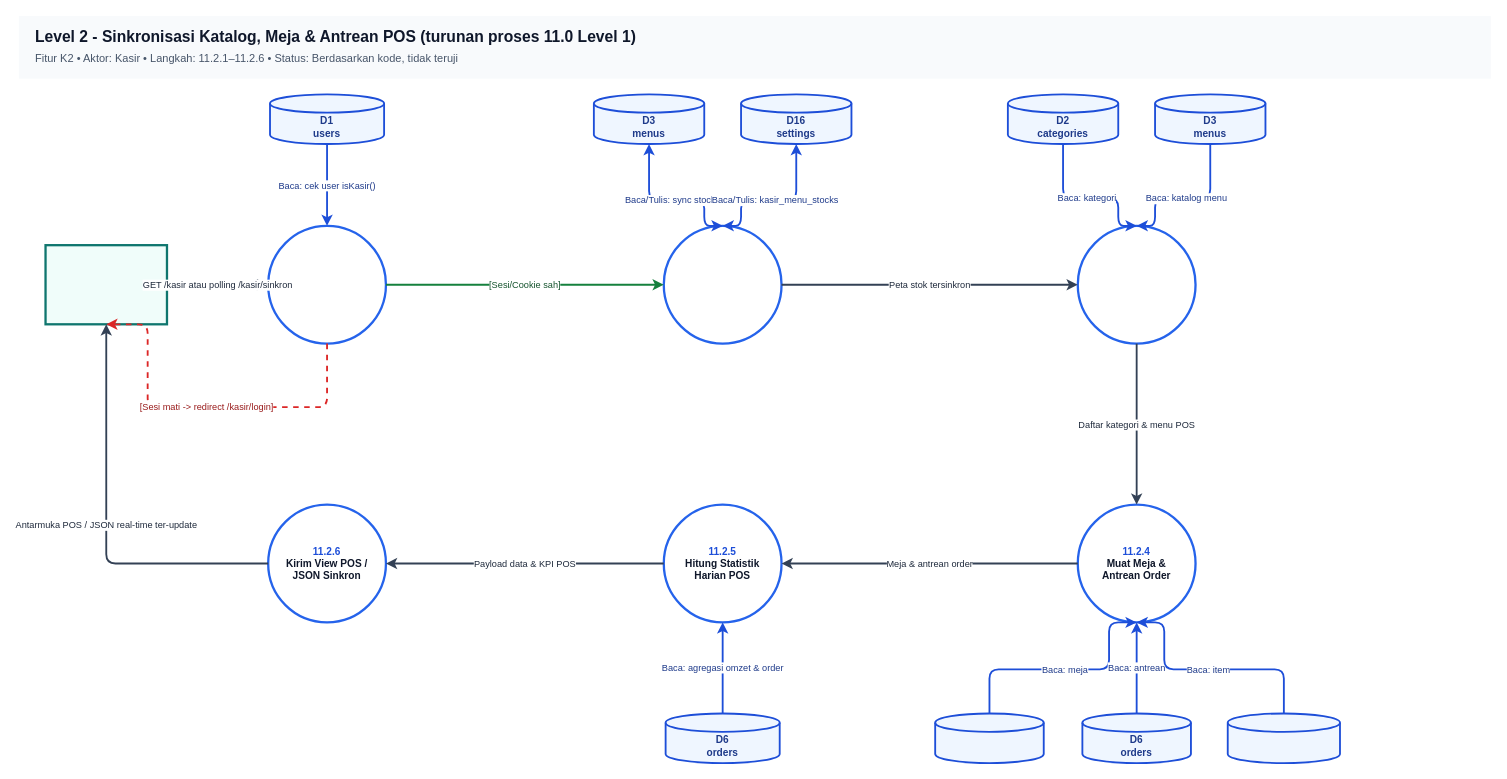
Some shapes in this 1507 by 779 pixel diagram are drawn without their labels. The shapes that lost their labels are listed below. From the top down, each one's centre as x and y in pixels, then its label:
At pixel 106 284: "Kasir Terautentikasi".
At pixel 327 284: "11.2.1 Verifikasi Sesi & Terima Req POS".
At pixel 722 284: "11.2.2 Sinkron Skema & Stok Awal".
At pixel 1136 284: "11.2.3 Muat Kategori & Katalog POS".
At pixel 989 738: "D5 tables".
At pixel 1283 738: "D7 order_items".
